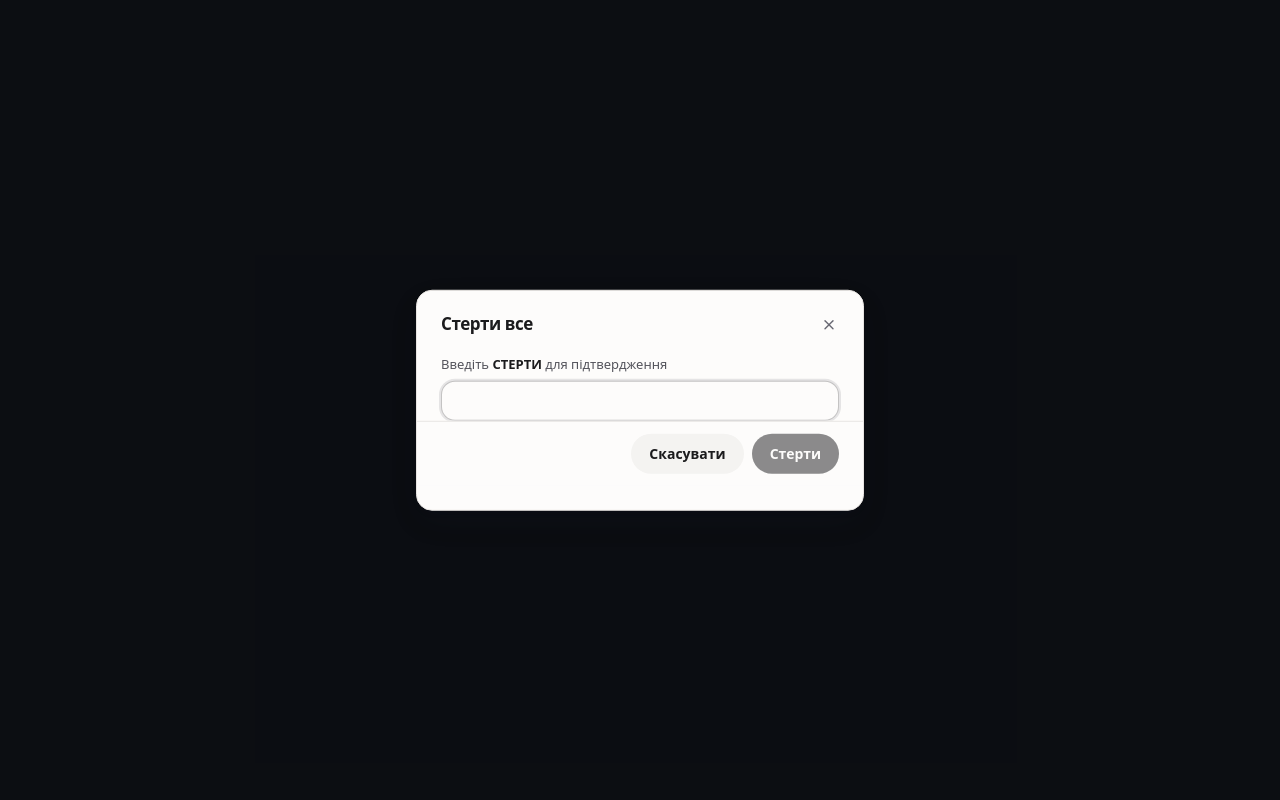
Test: confirm() › keeps the confirm button locked until the required text is typed
The image size is (1280, 800).
Expected: the button "Стерти" is disabled, x1=752 y1=433 x2=839 y2=473
In the field: [640, 400] box x1=441 y1=380 x2=839 y2=420, type "СТЕРТИ"
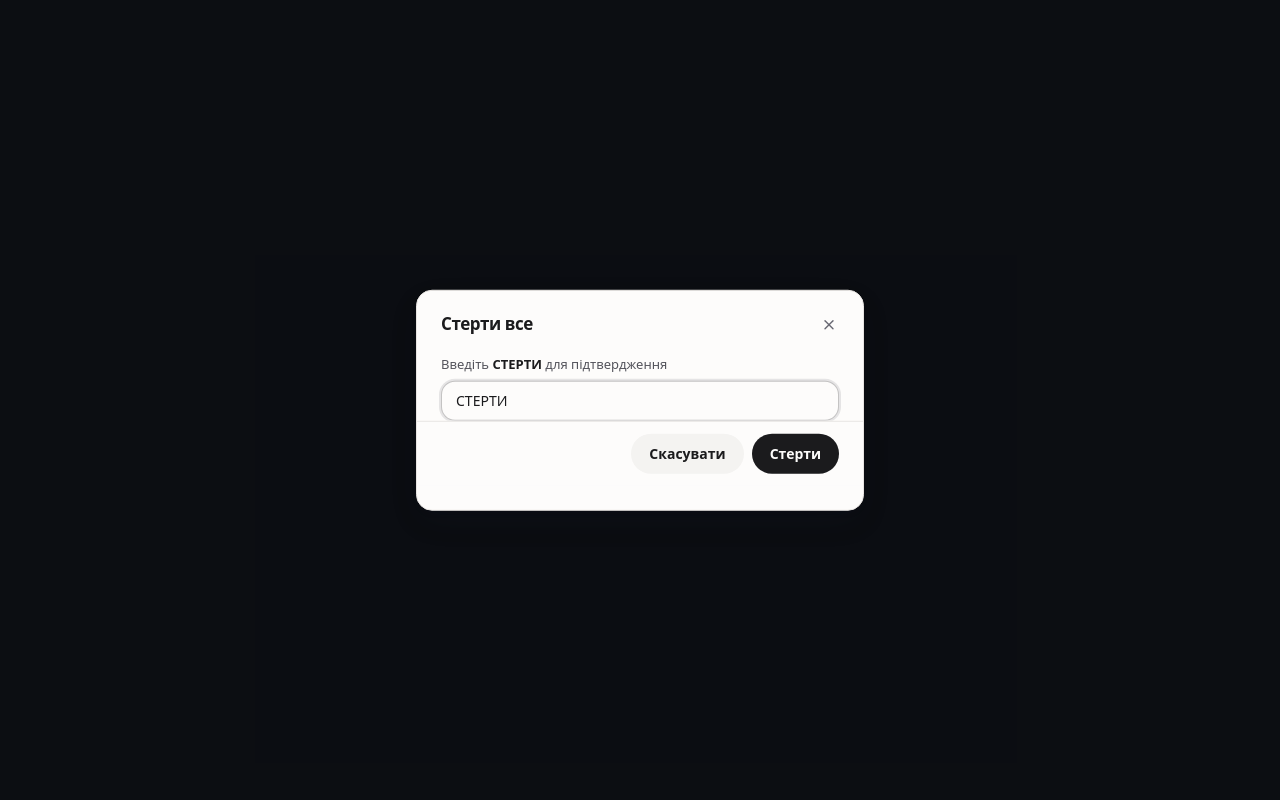
Result: the button "Стерти" is enabled at x1=752 y1=433 x2=839 y2=473
